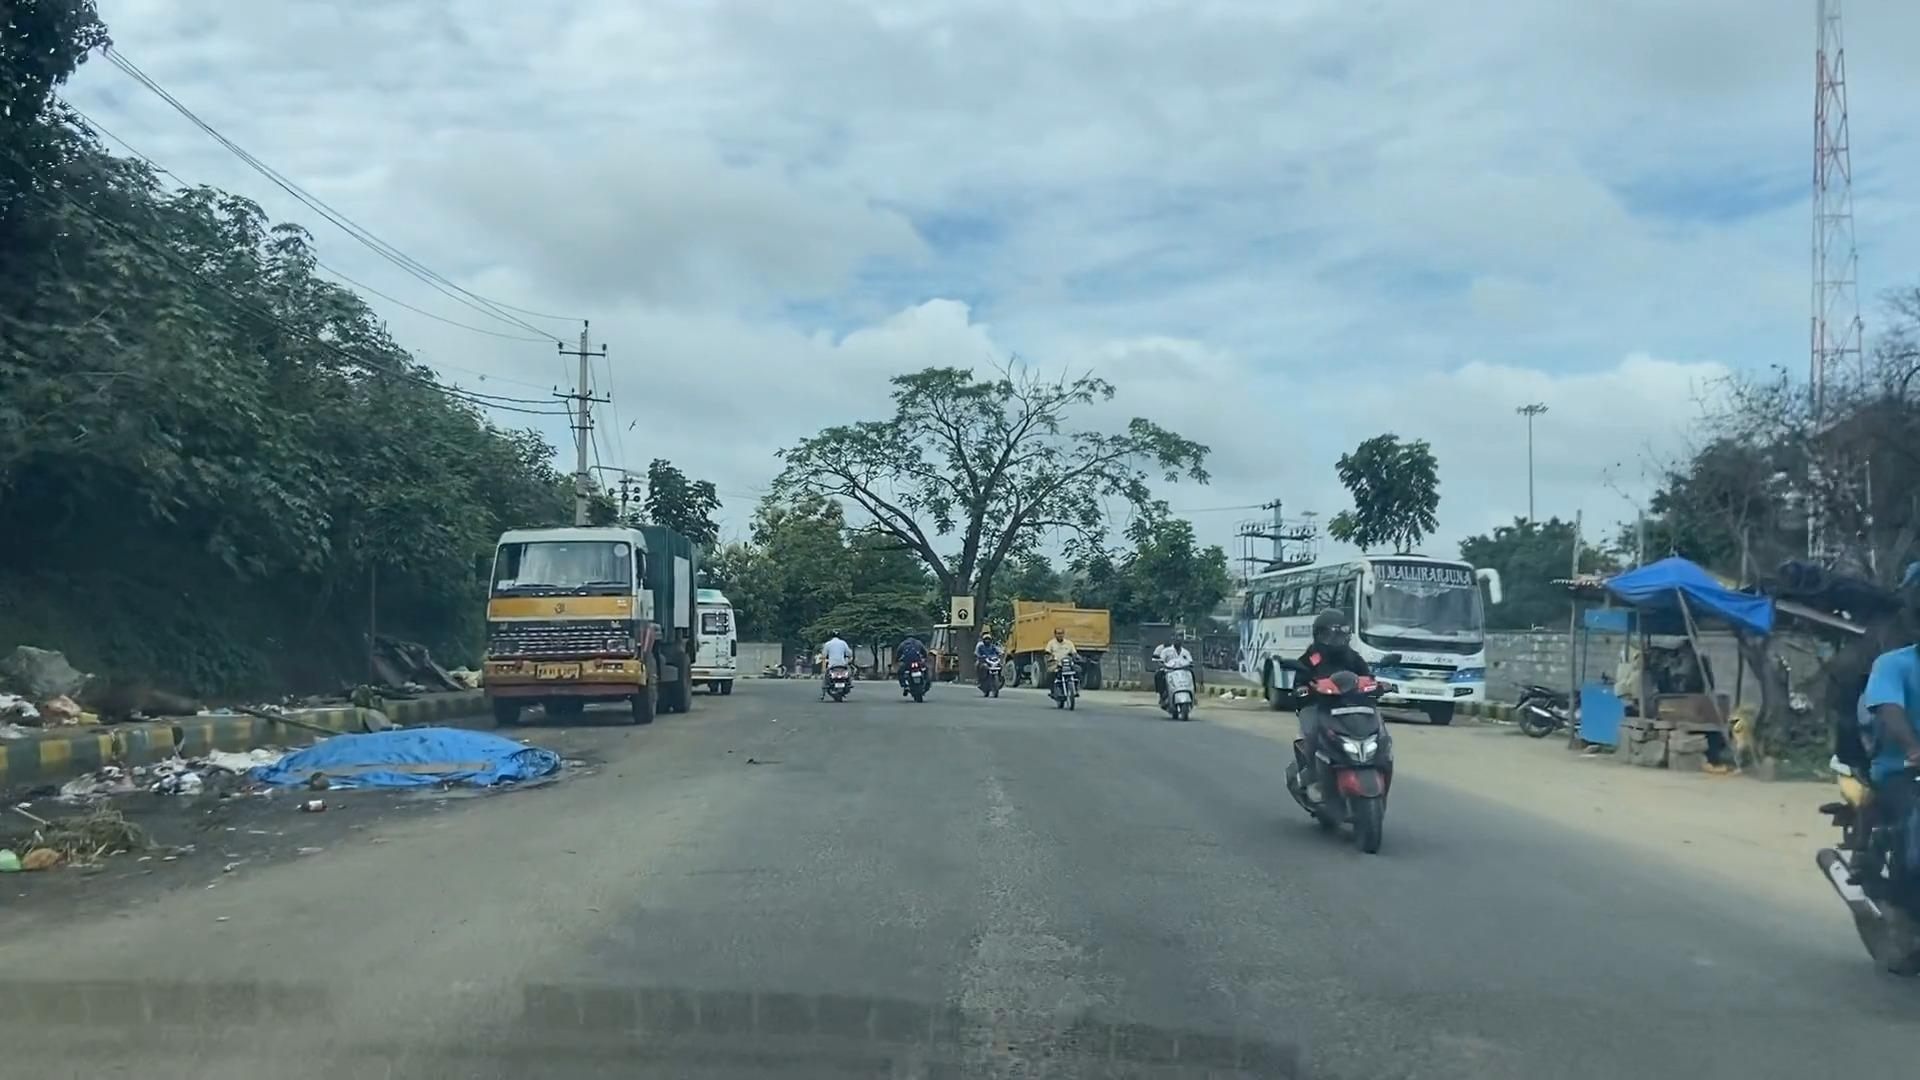HMV: (469, 521, 748, 742), (1224, 546, 1510, 725), (975, 587, 1114, 703)
LMV: (1730, 563, 1920, 1004), (1278, 599, 1399, 865), (884, 549, 971, 746), (811, 601, 885, 736), (1143, 617, 1212, 735), (1518, 674, 1622, 744), (1033, 616, 1089, 716), (971, 622, 1010, 704)
RoadDamages: (911, 856, 1163, 1069)
